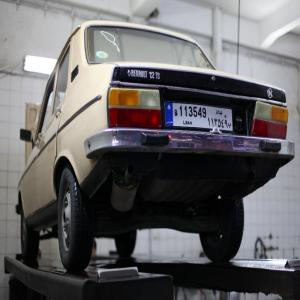Vehicle-registration-plate: (164, 94, 218, 138)
